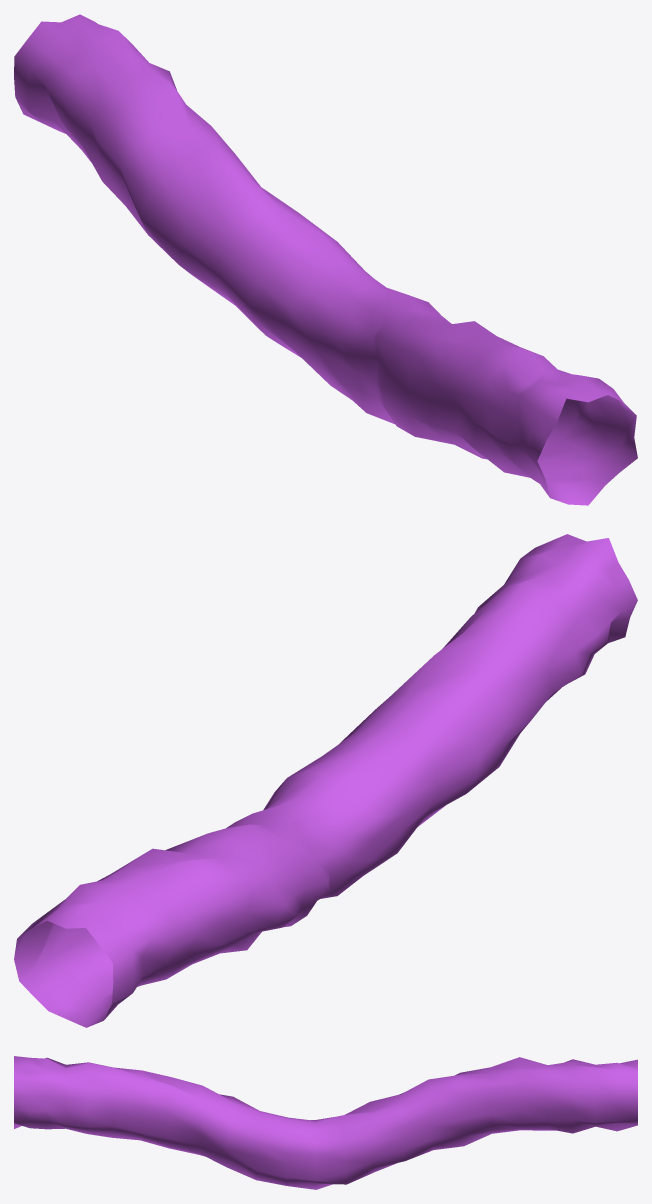
Rendered from Cave_UpDown.fbx.
The picture shows the model from 3 angles, top to bottom: view 1: azimuth 30°, elevation 25°; view 2: azimuth 150°, elevation 25°; view 3: azimuth 270°, elevation 25°; orthographic projection. The views are drawn at different scales.
Visible parts, largest first — view 1: Cube; view 2: Cube; view 3: Cube.
Boxes of the visible parts, x1,y1,x2,y2 form: Cube: (14,14,637,505); Cube: (14,534,637,1027); Cube: (14,1056,637,1189).
Size of the model in its own units: 3392 by 19670 by 3913.
